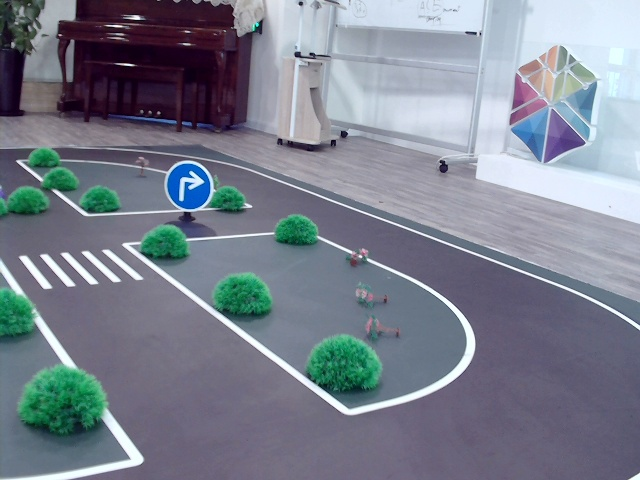turn_right: (174, 168, 202, 204)
